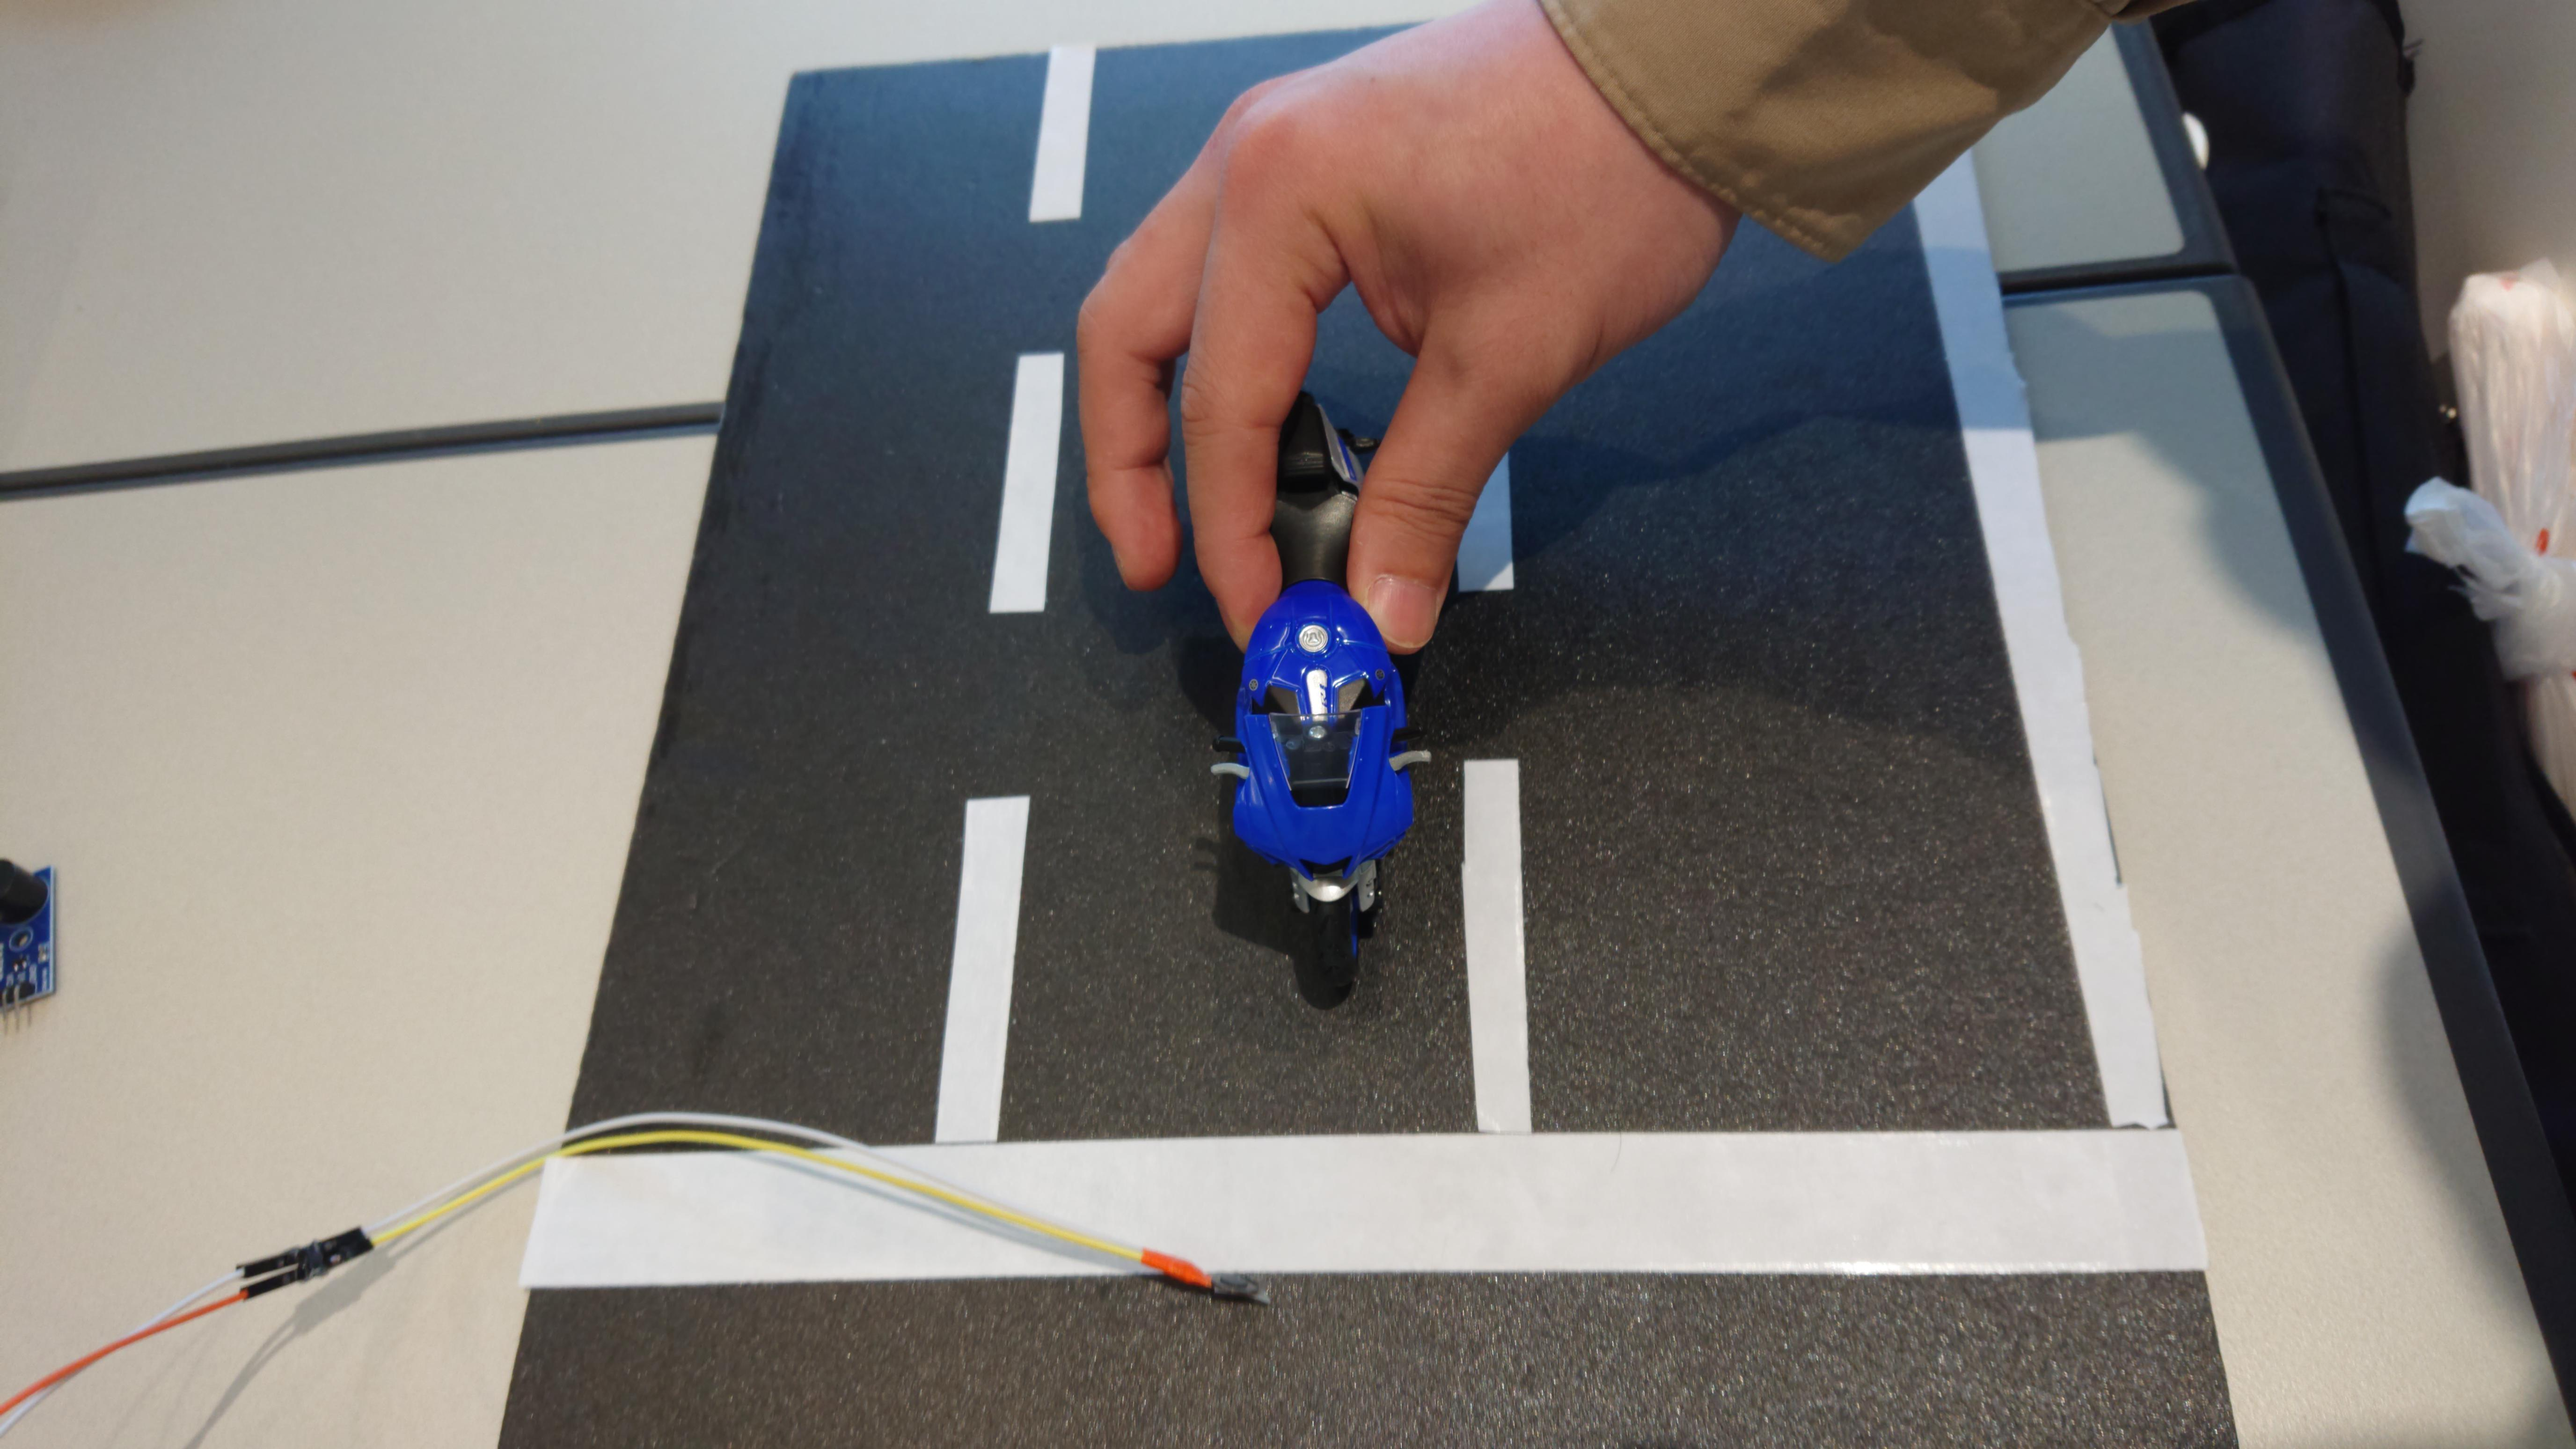Motorcycle: (1184, 395, 1444, 969)
